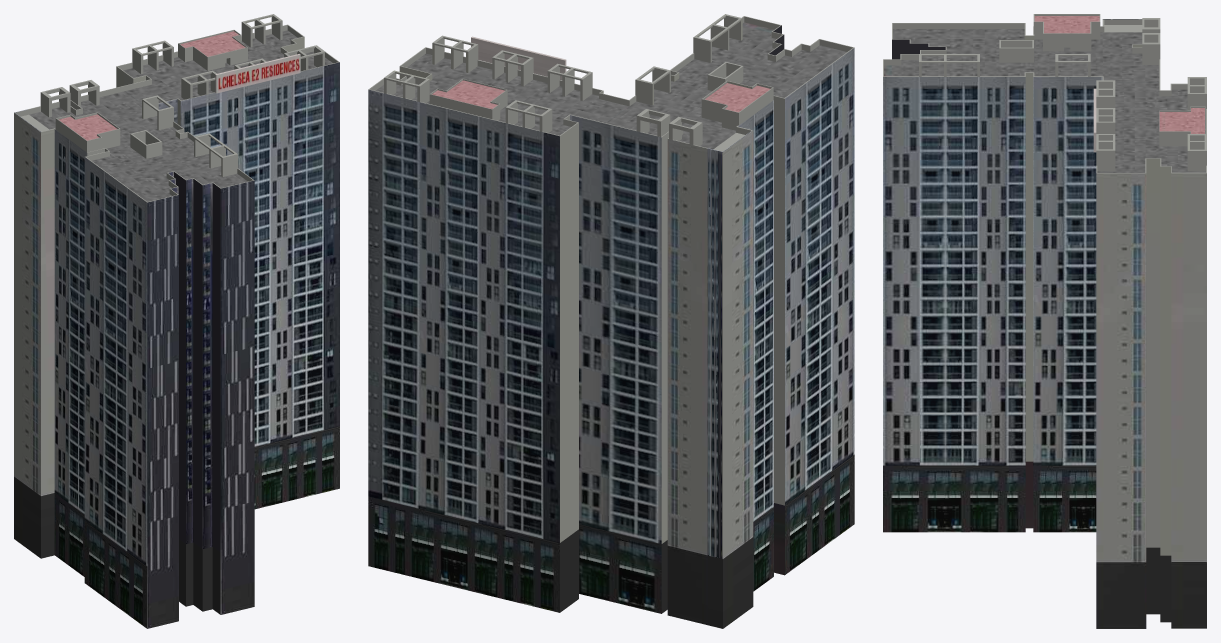
The picture shows the model from 3 angles, left to right: view 1: azimuth 30°, elevation 25°; view 2: azimuth 150°, elevation 25°; view 3: azimuth 270°, elevation 25°; orthographic projection. The views are drawn at different scales.
Visible parts, largest first — view 1: HN830_ChelseaE2Residences; view 2: HN830_ChelseaE2Residences; view 3: HN830_ChelseaE2Residences.
Part boxes in pixels (bbox=[...]): HN830_ChelseaE2Residences: bbox=[14, 14, 339, 628]; HN830_ChelseaE2Residences: bbox=[368, 14, 854, 628]; HN830_ChelseaE2Residences: bbox=[883, 14, 1206, 628].
Bounding box in the file's own units: 68.52 × 98.38 × 60.72.
1 material, 1 textured.
